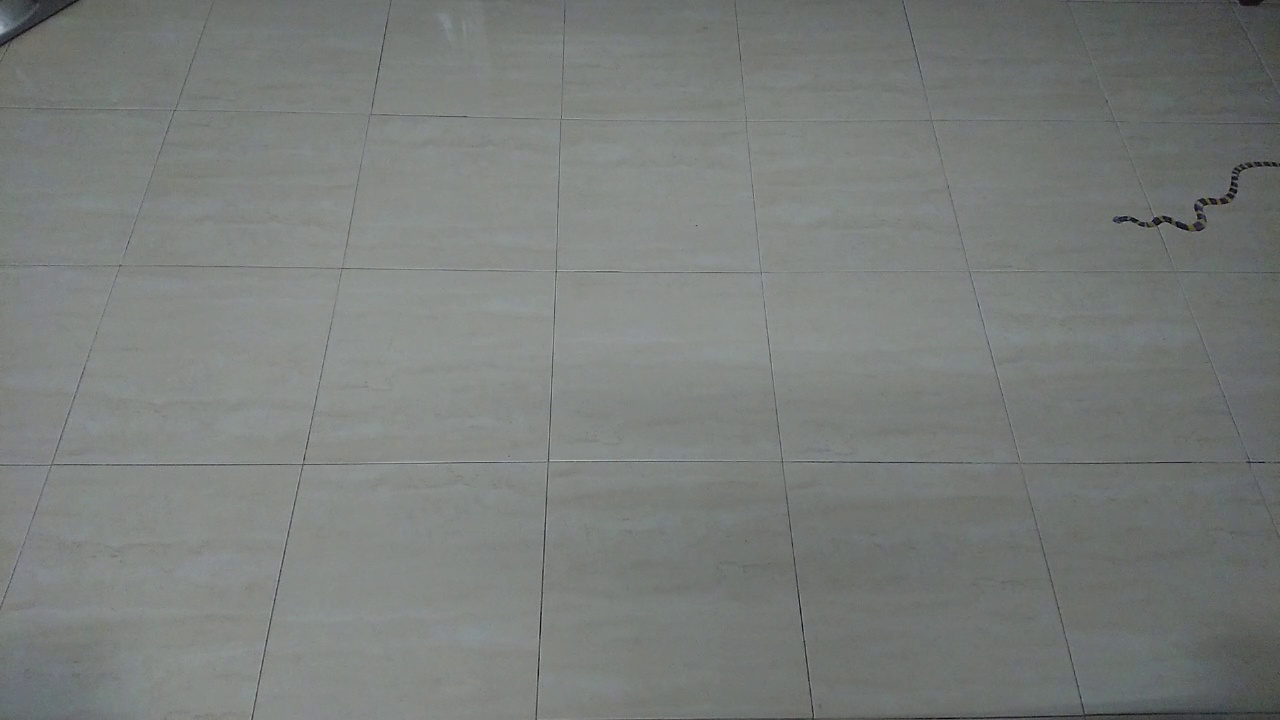snake: (1099, 145, 1280, 246)
